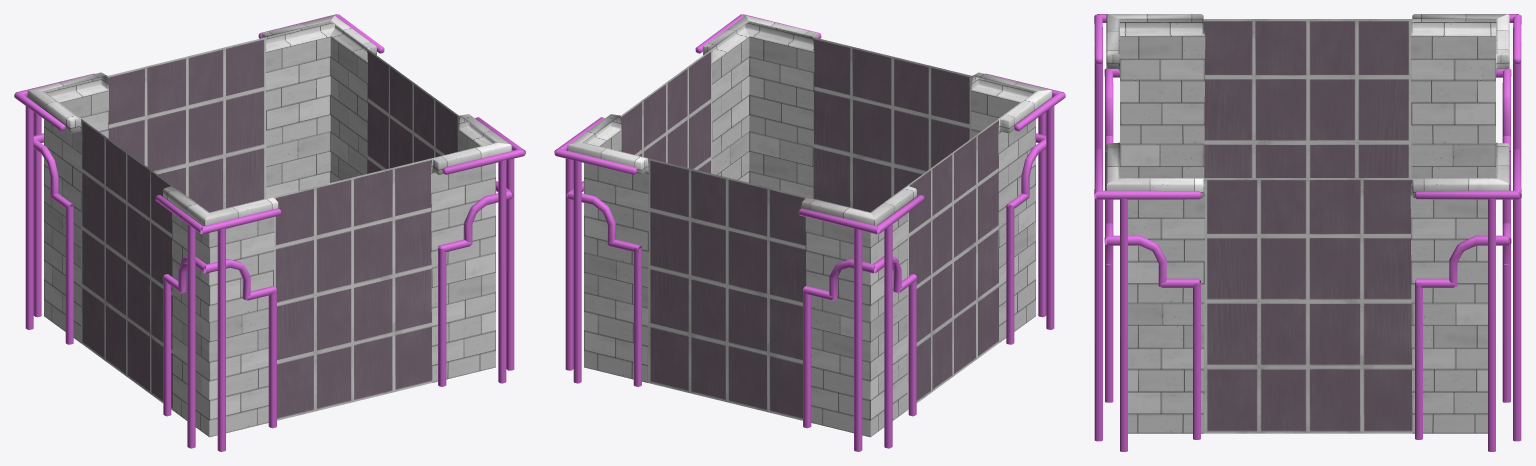
Rendered from SM_Tower_01.fbx.
The picture shows the model from 3 angles, left to right: view 1: azimuth 30°, elevation 25°; view 2: azimuth 150°, elevation 25°; view 3: azimuth 270°, elevation 25°; orthographic projection. The views are drawn at different scales.
Parts seen in each view (by area): view 1: SM_Tower_01; view 2: SM_Tower_01; view 3: SM_Tower_01.
Part boxes in pixels (x1,y1,x2,y2): SM_Tower_01: (14, 14, 525, 451); SM_Tower_01: (554, 14, 1065, 451); SM_Tower_01: (1094, 14, 1521, 451).
Bounding box in the file's own units: 727 × 727 × 495.
